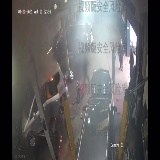fire: (49, 73, 55, 87)
